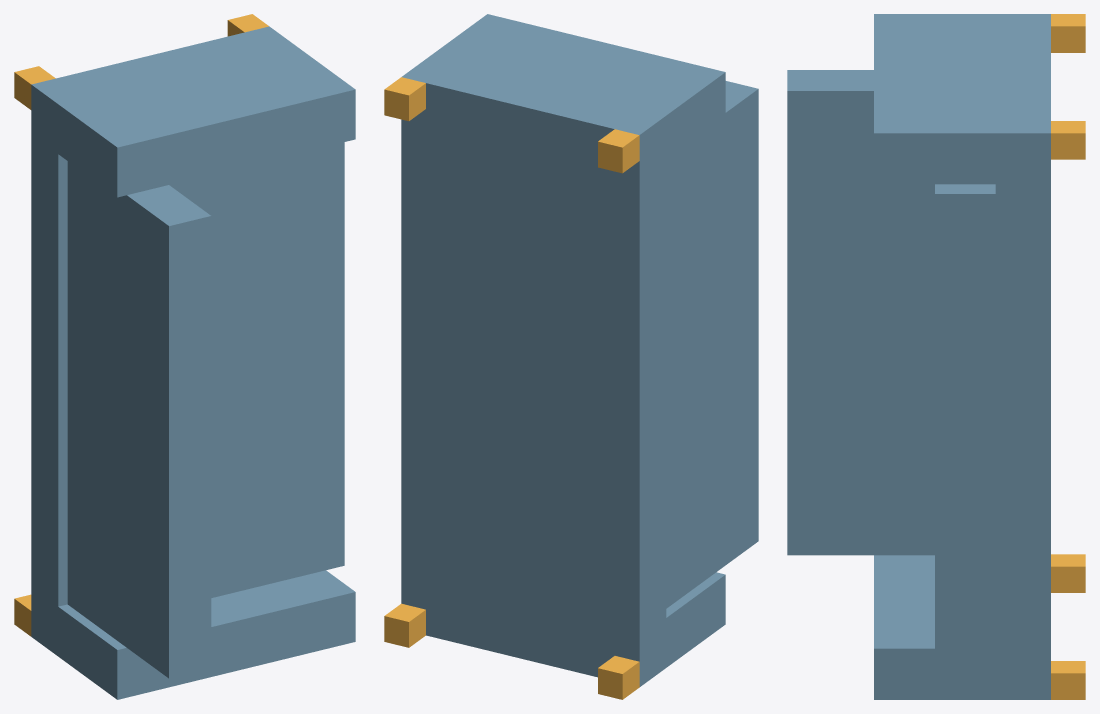
The model's file is couch_1.dae.
3 renders of one model, left to right at view 1: azimuth 30°, elevation 25°; view 2: azimuth 150°, elevation 25°; view 3: azimuth 270°, elevation 25°, orthographic. The views are drawn at different scales.
Visible parts, largest first — view 1: coords_ME_ID3_MA_material, coords_ME_ID31_MA_material_0, coords_ME_ID19_MA_material_0, coords_ME_ID11_MA_material_0; view 2: coords_ME_ID3_MA_material, coords_ME_ID31_MA_material_0, coords_ME_ID11_MA_material_0, coords_ME_ID19_MA_material_0, coords_ME_ID25_MA_material_0; view 3: coords_ME_ID3_MA_material, coords_ME_ID31_MA_material_0, coords_ME_ID25_MA_material_0, coords_ME_ID19_MA_material_0, coords_ME_ID11_MA_material_0.
Part boxes in pixels (x1,y1,x2,y2): coords_ME_ID3_MA_material: (31, 26, 355, 699); coords_ME_ID31_MA_material_0: (14, 66, 55, 109); coords_ME_ID19_MA_material_0: (14, 594, 31, 636); coords_ME_ID11_MA_material_0: (227, 14, 268, 36); coords_ME_ID3_MA_material: (401, 14, 758, 686); coords_ME_ID31_MA_material_0: (598, 129, 639, 173); coords_ME_ID11_MA_material_0: (384, 77, 425, 121); coords_ME_ID19_MA_material_0: (598, 656, 639, 699); coords_ME_ID25_MA_material_0: (384, 603, 425, 647); coords_ME_ID3_MA_material: (787, 14, 1050, 699); coords_ME_ID31_MA_material_0: (1051, 14, 1085, 52); coords_ME_ID25_MA_material_0: (1051, 661, 1085, 699); coords_ME_ID19_MA_material_0: (1051, 554, 1085, 592); coords_ME_ID11_MA_material_0: (1051, 121, 1085, 159).
Size of the model in its own units: 12.06 by 24.79 by 11.83.
